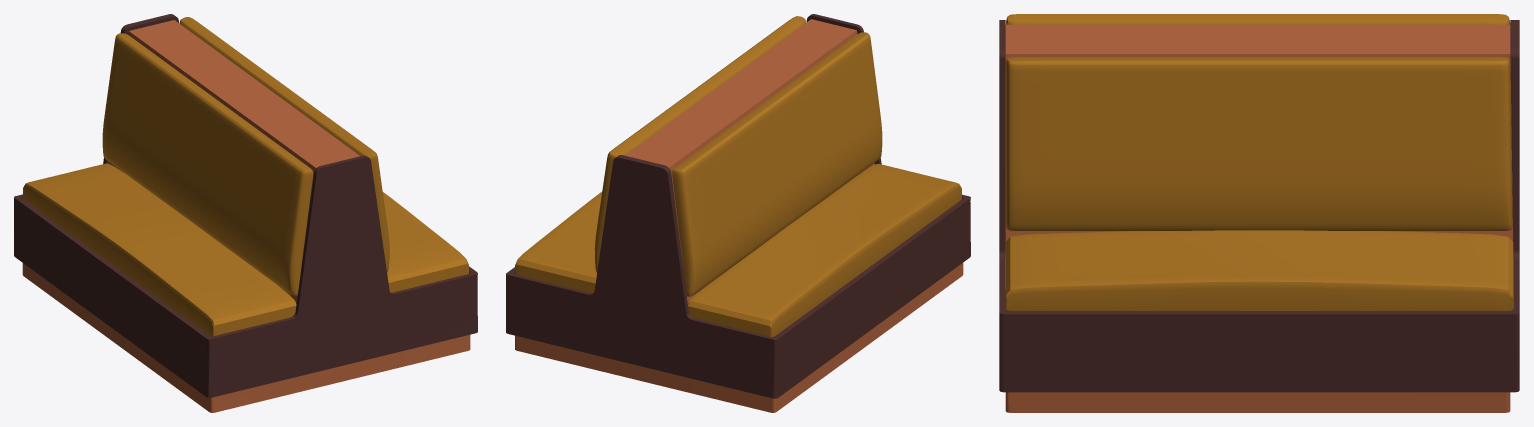
File: Cushion_002.fbx
3 renders of one model, left to right at view 1: azimuth 30°, elevation 25°; view 2: azimuth 150°, elevation 25°; view 3: azimuth 270°, elevation 25°, orthographic. The views are drawn at different scales.
Parts seen in each view (by area): view 1: Cushion_002; view 2: Cushion_002; view 3: Cushion_002.
Boxes of the visible parts, left/top/right/bottom form: Cushion_002: left=14, top=14, right=477, bottom=412; Cushion_002: left=506, top=14, right=970, bottom=412; Cushion_002: left=999, top=14, right=1519, bottom=412.
Bounding box in the file's own units: 265 × 206 × 331.
